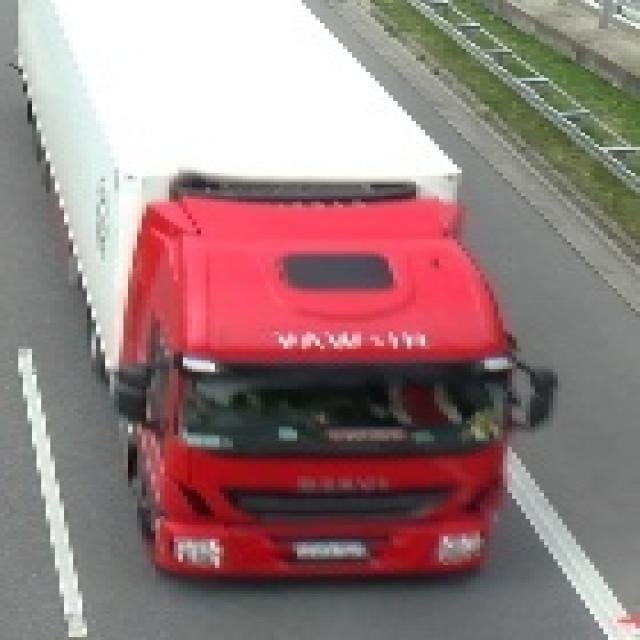TRUCK: (23, 0, 535, 577)
